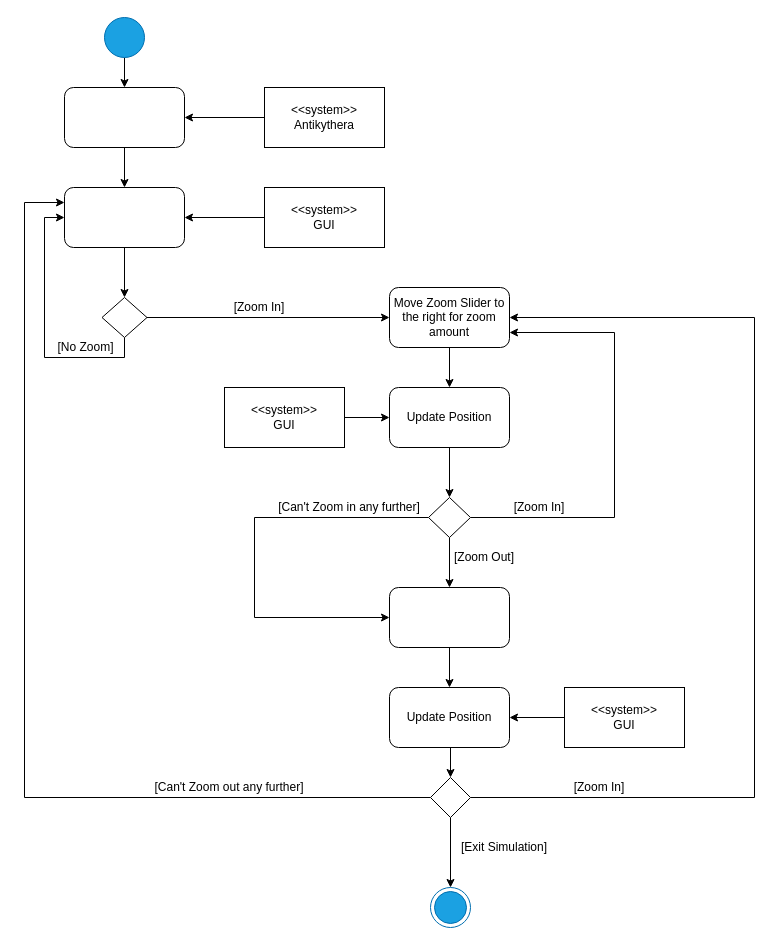
This 780x945 diagram has some shape labels left out. The shapes that lost their labels are listed below. From the top down, each one's centre as x and y in pixels, then its label:
At (x=124, y=117): "Start Simulation".
At (x=124, y=217): "Run Simulation Main Menu".
At (x=449, y=617): "Move Zoom Slider to the left for zoom amount".
